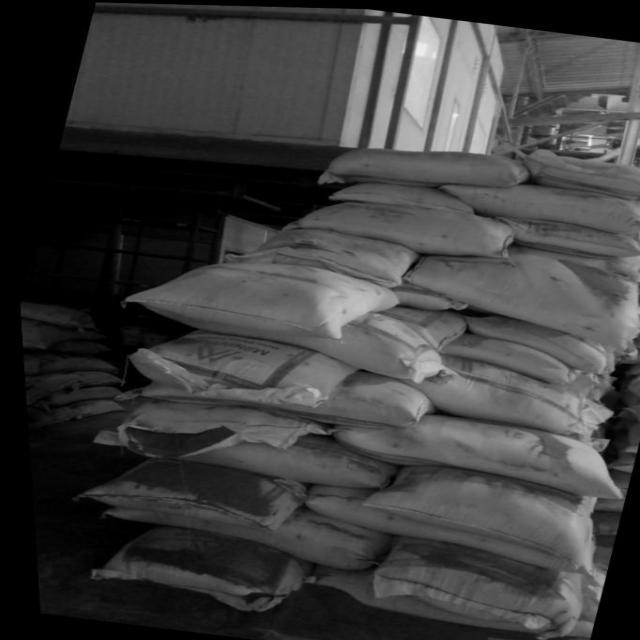gunny_bag: (399, 242, 640, 347), (353, 463, 589, 570), (326, 410, 619, 496), (293, 493, 592, 575), (116, 260, 398, 340), (120, 328, 359, 408), (74, 430, 385, 490), (89, 508, 372, 570), (356, 565, 577, 638), (407, 354, 594, 434), (105, 380, 416, 427), (272, 199, 515, 258), (110, 397, 324, 461), (77, 551, 283, 613), (69, 477, 286, 534), (217, 226, 419, 286), (293, 310, 441, 380), (438, 180, 640, 231), (313, 144, 532, 186), (462, 312, 604, 374), (440, 331, 567, 384), (520, 144, 640, 200), (494, 214, 640, 256), (323, 180, 475, 212), (377, 303, 465, 350), (562, 562, 600, 637), (393, 279, 468, 309), (600, 441, 630, 470), (586, 509, 615, 537), (617, 418, 636, 452), (617, 400, 640, 426), (620, 372, 640, 400), (588, 494, 619, 510), (610, 470, 625, 494), (616, 361, 640, 375), (614, 348, 640, 360), (630, 326, 640, 347), (635, 310, 640, 327)
